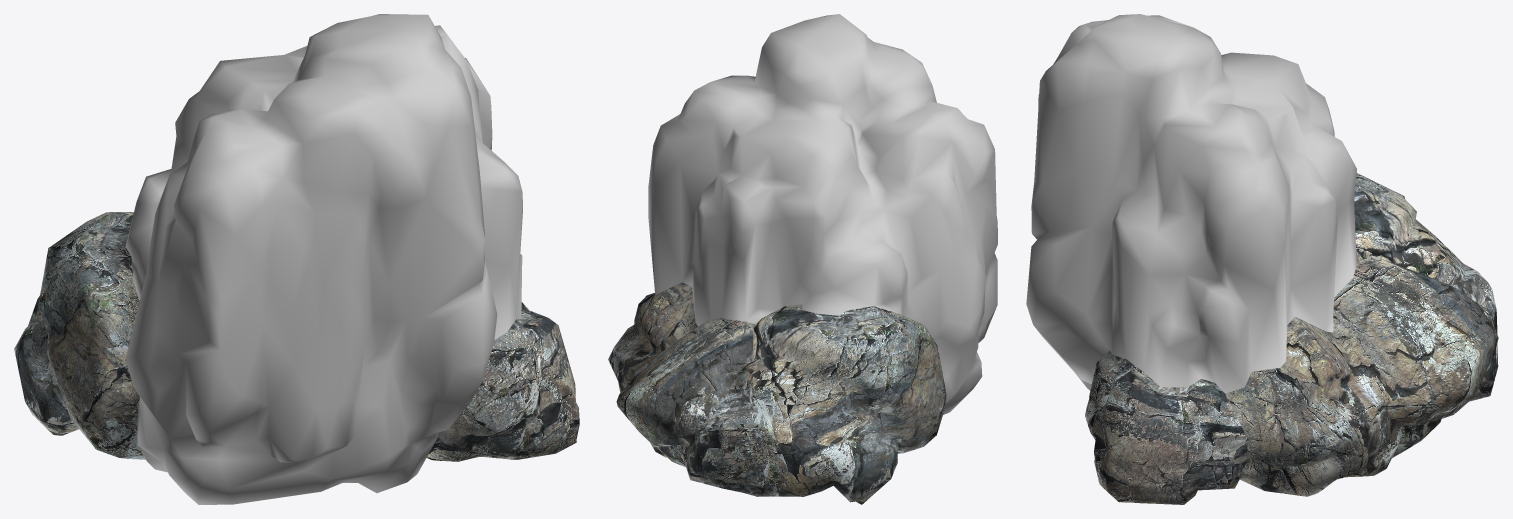
Rendered from Cliff1E.fbx.
The picture shows the model from 3 angles, left to right: view 1: azimuth 30°, elevation 25°; view 2: azimuth 150°, elevation 25°; view 3: azimuth 270°, elevation 25°; orthographic projection. The views are drawn at different scales.
Visible parts, largest first — view 1: polySurface174; view 2: polySurface174; view 3: polySurface174.
Boxes of the visible parts, left/top/right/bottom form: polySurface174: left=14, top=14, right=579, bottom=504; polySurface174: left=608, top=14, right=997, bottom=504; polySurface174: left=1026, top=14, right=1498, bottom=504.
Bounding box in the file's own units: 8.06 × 8.84 × 9.03.
